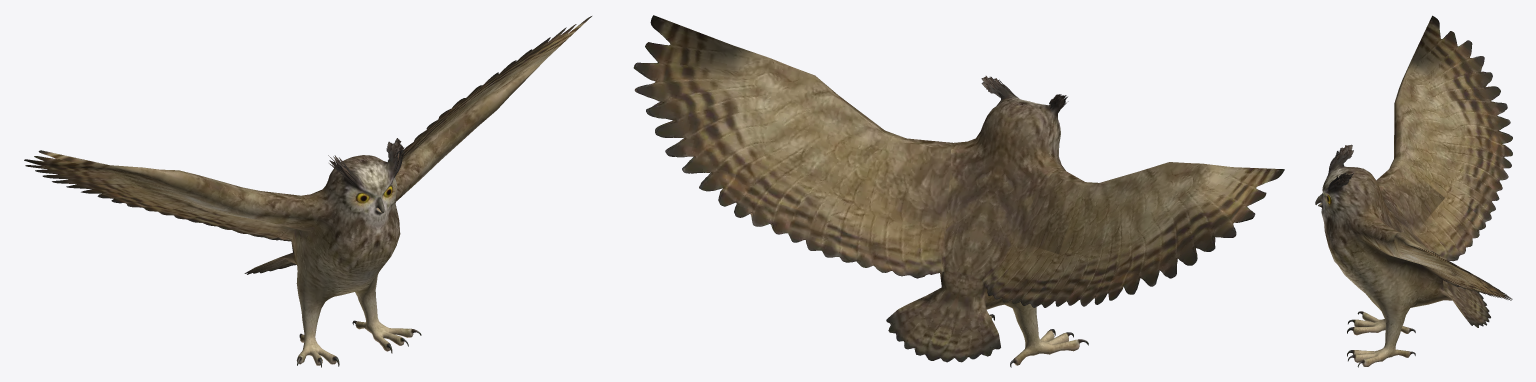
Rendered from ave_owl.glb.
3 renders of one model, left to right at view 1: azimuth 30°, elevation 25°; view 2: azimuth 150°, elevation 25°; view 3: azimuth 270°, elevation 25°, orthographic. The views are drawn at different scales.
Parts seen in each view (by area): view 1: Object_4; view 2: Object_4; view 3: Object_4.
Boxes of the visible parts, x1,y1,x2,y2 form: Object_4: (24, 16, 591, 367); Object_4: (633, 15, 1284, 367); Object_4: (1315, 15, 1512, 367).
Size of the model in its own units: 1 by 0.4196 by 0.3671.
1 material, 1 textured.
